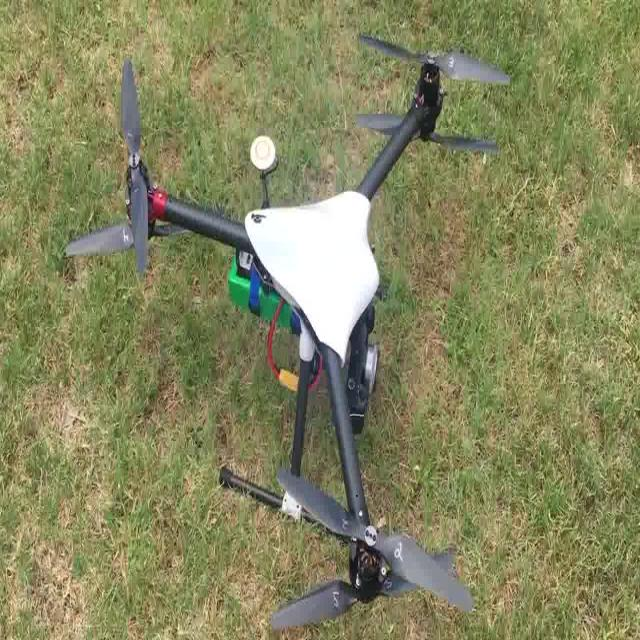Drone_FW: (63, 32, 511, 633)
